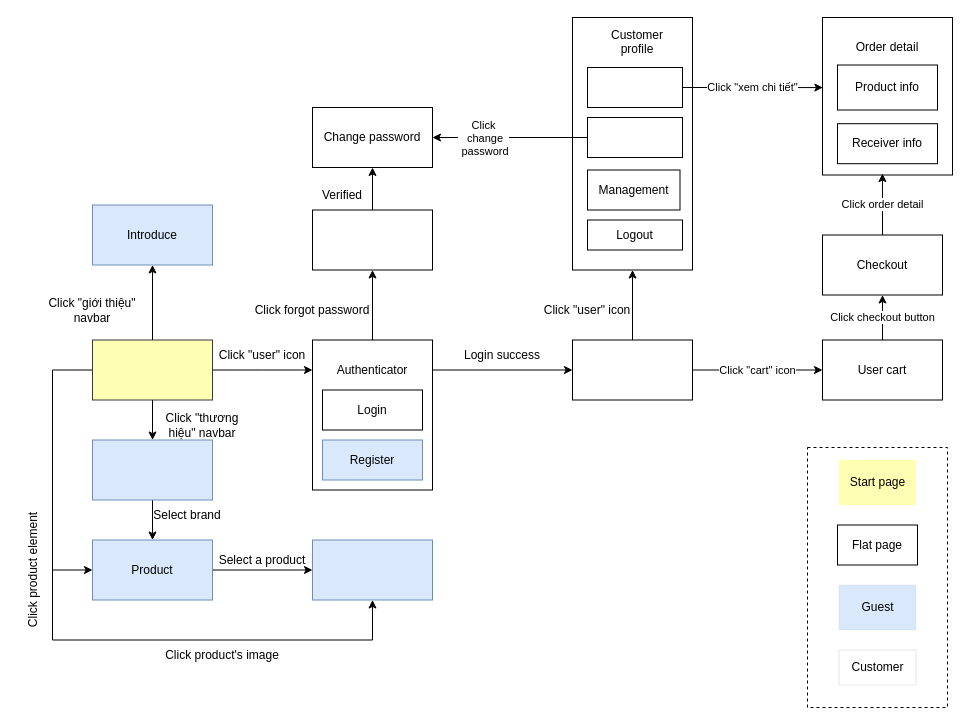
Some shapes in this 970 by 725 pixel diagram are drawn without their labels. Each missing label, with the box of its shape:
Account: (586, 116, 682, 158)
Brand: (92, 439, 212, 500)
Forgot password: (312, 209, 432, 270)
Home Page: (92, 339, 212, 400)
Order list: (586, 66, 682, 108)
Post Login: (572, 339, 692, 400)
Product Detail: (312, 539, 432, 600)
